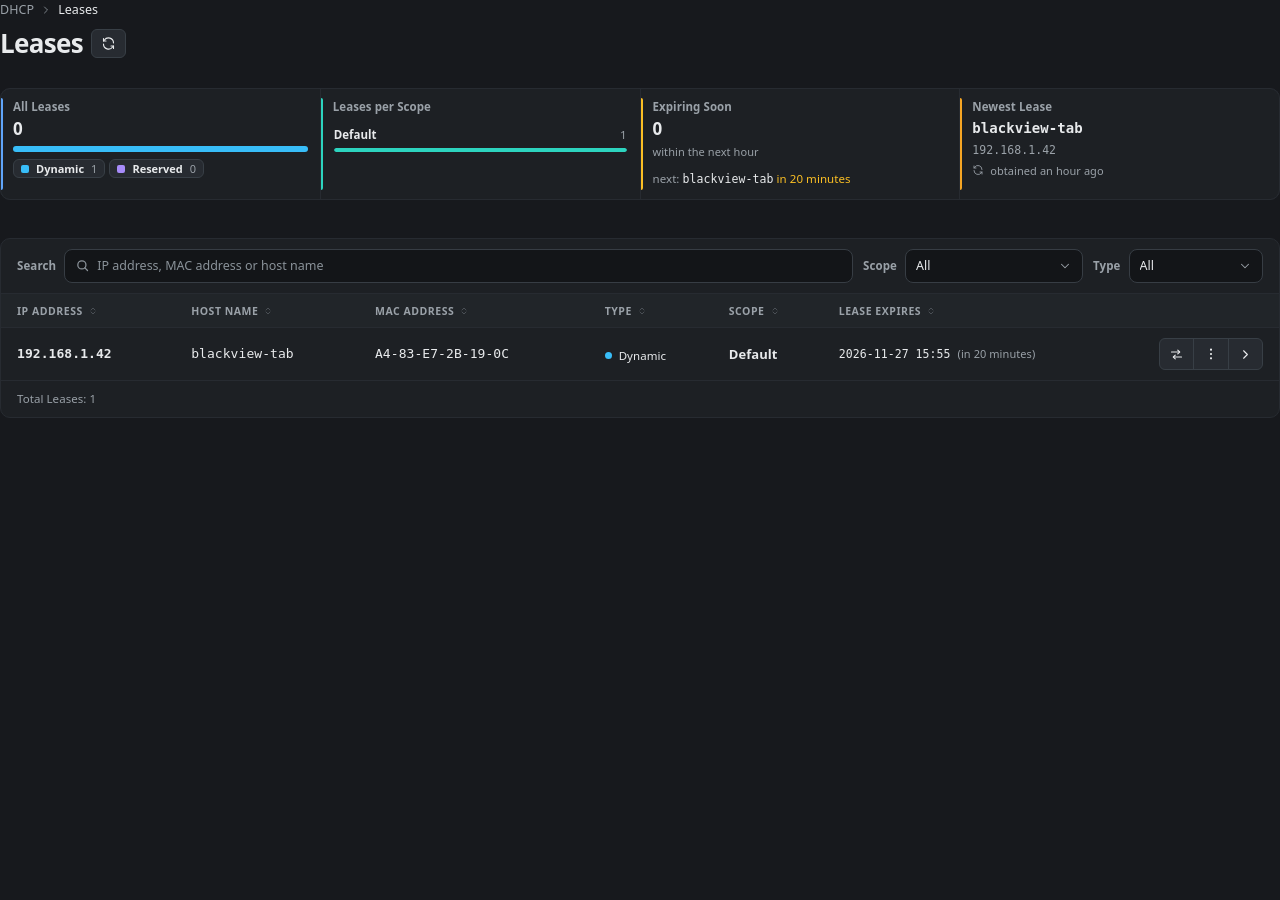
Leases at a glance › the Remove Lease dialog keeps both warnings with their words
Expected: the cell "192.168.1.42" is shown, [1,328,179,380]
Click the button named "Actions for 192.168.1.42" at (1211, 354), box [1194,339,1228,369]
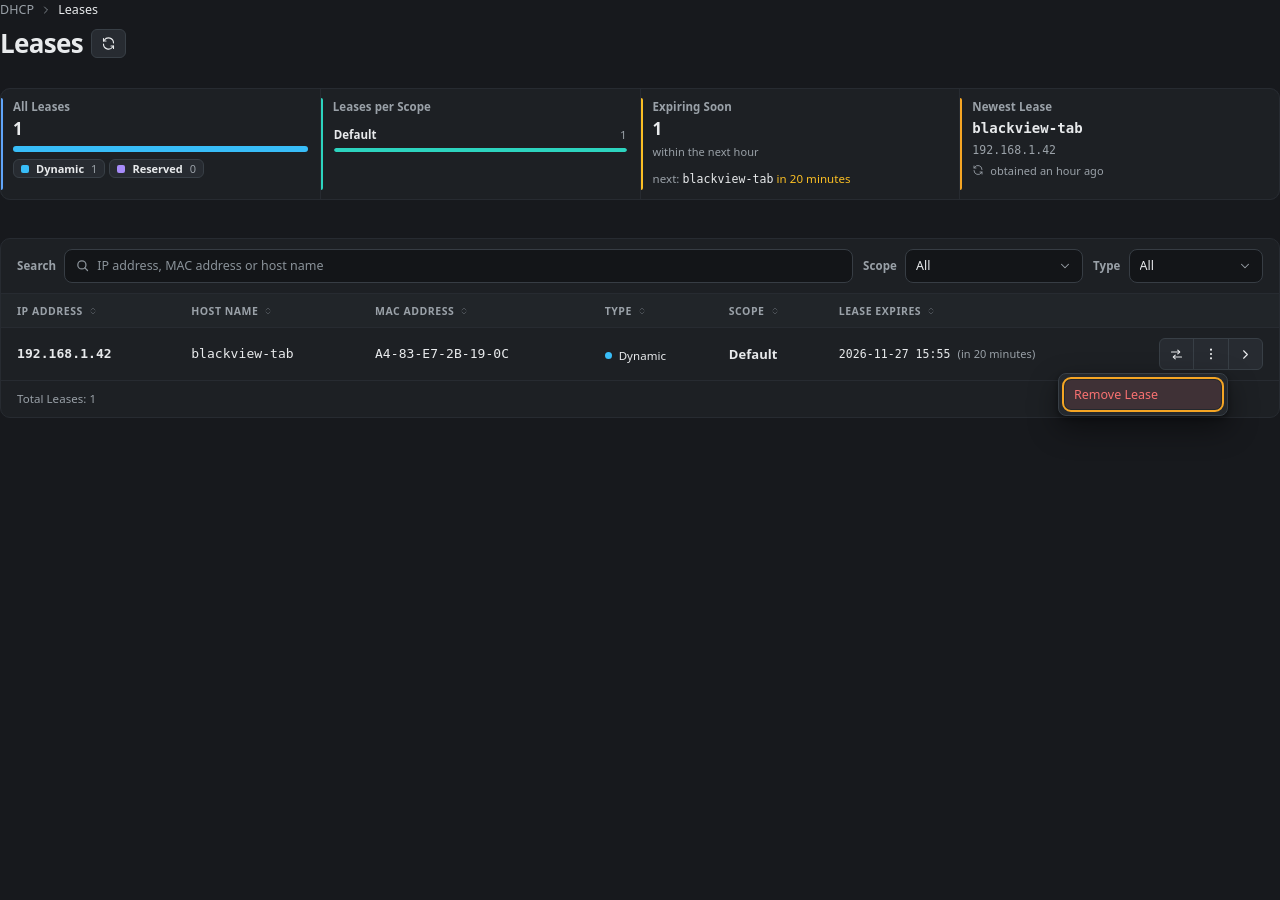
Click the menu item "Remove Lease" at (1143, 395), box [1065,380,1221,409]
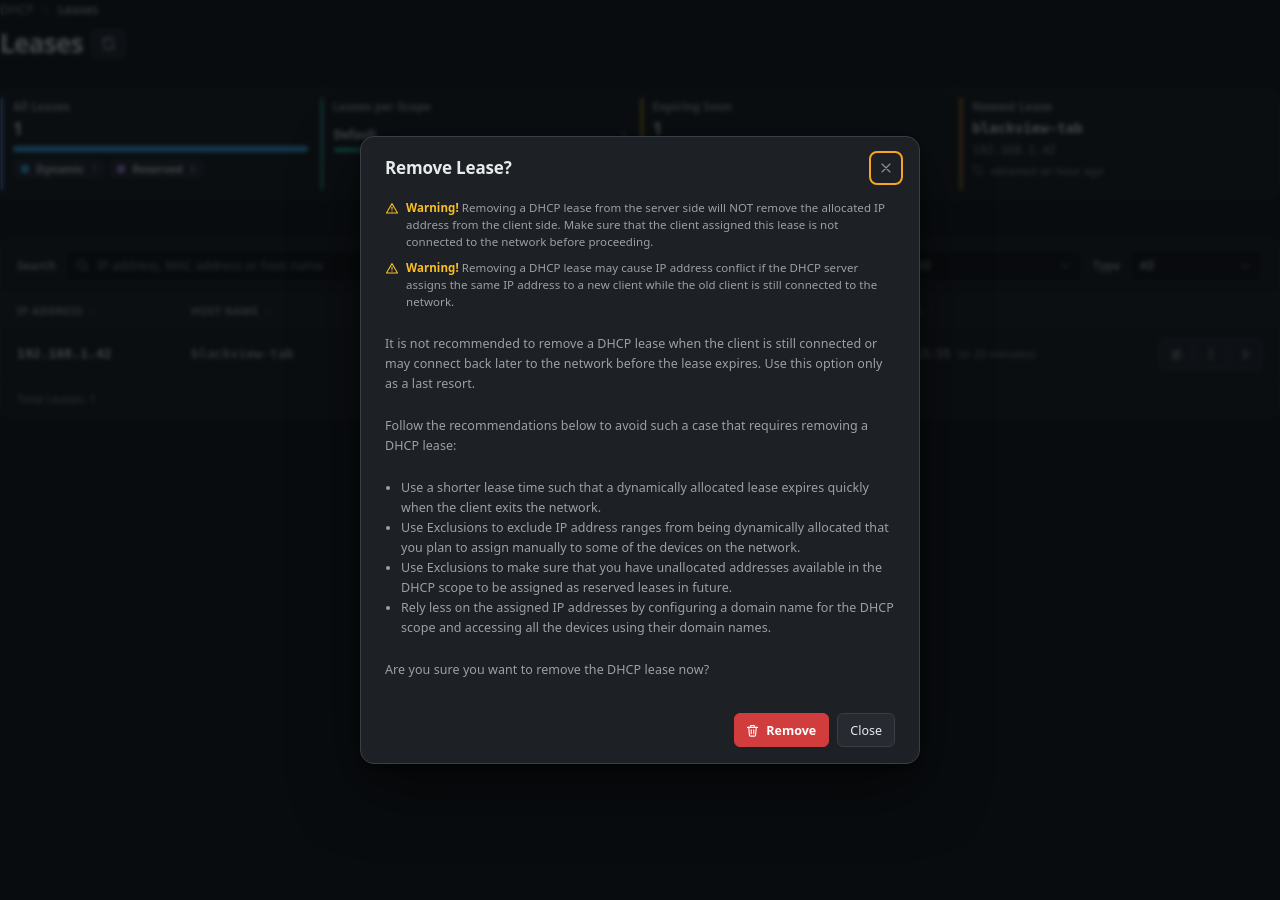
Expected: the text "Warning!" is shown 2 times, [406,200,459,215]; [406,260,459,274]
Expected: the text "will NOT remove the allocated IP address from the client side" is shown, [406,200,885,249]
Expected: the text "may cause IP address conflict" is shown, [406,260,877,309]
